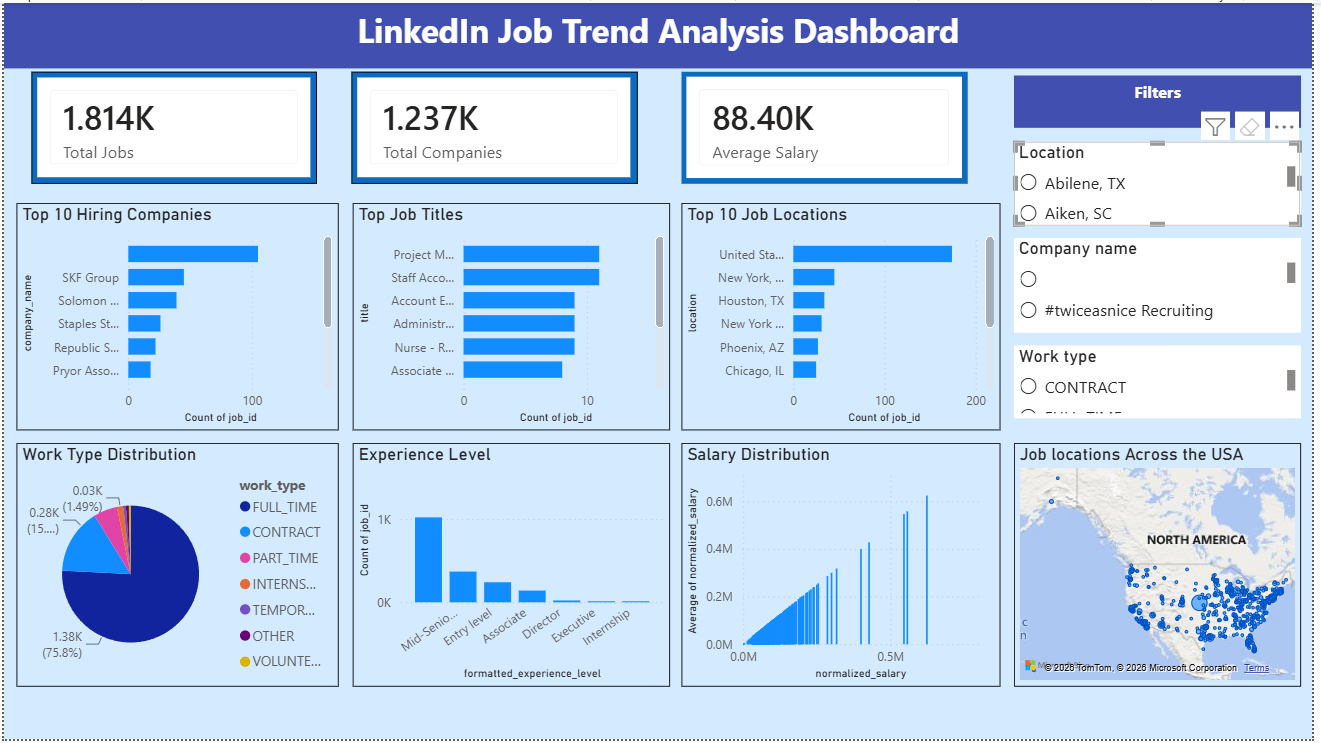

The dashboard page shown, as its layout file describes it:
{"tool":"powerbi","page":{"name":"Page 1","canvas":[1280,720],"ordinal":0},"visuals":[{"type":"cardVisual","fields":{"Data":["CountNonNull(LinkedIn_Cleaned_Data.job_id)"]},"box":[27.1,67,279.4,109.8],"z":0},{"type":"cardVisual","fields":{"Data":["Count(LinkedIn_Cleaned_Data.company_name)"]},"box":[340.3,67.2,279.9,109.8],"z":1000},{"type":"cardVisual","fields":{"Data":["Avg(LinkedIn_Cleaned_Data.normalized_salary)"]},"box":[662.8,67.2,279.9,109.8],"z":2000},{"type":"clusteredBarChart","title":"Top 10 Hiring Companies","fields":{"Category":["LinkedIn_Cleaned_Data.company_name"],"Y":["CountNonNull(LinkedIn_Cleaned_Data.job_id)"]},"box":[12.8,195.3,315,222.4],"z":3000},{"type":"clusteredBarChart","title":"Top 10 Job Locations","fields":{"Category":["LinkedIn_Cleaned_Data.location"],"Y":["CountNonNull(LinkedIn_Cleaned_Data.job_id)"]},"box":[662.8,195.3,312.2,222.4],"z":4000},{"type":"clusteredBarChart","title":"Top Job Titles","fields":{"Category":["LinkedIn_Cleaned_Data.title"],"Y":["CountNonNull(LinkedIn_Cleaned_Data.job_id)"]},"box":[340.7,195.3,310.7,222.4],"z":5000},{"type":"pieChart","title":"Work Type Distribution","fields":{"Category":["LinkedIn_Cleaned_Data.work_type"],"Y":["CountNonNull(LinkedIn_Cleaned_Data.job_id)"]},"box":[12.8,430.5,315,238],"z":6000},{"type":"clusteredColumnChart","title":"Experience Level","fields":{"Category":["LinkedIn_Cleaned_Data.formatted_experience_level"],"Y":["CountNonNull(LinkedIn_Cleaned_Data.job_id)"]},"box":[340.7,430.5,310.7,238],"z":7000},{"type":"clusteredColumnChart","title":"Salary Distribution","fields":{"Category":["LinkedIn_Cleaned_Data.normalized_salary"],"Y":["Avg(LinkedIn_Cleaned_Data.normalized_salary)"]},"box":[662.8,430.5,312.2,238],"z":8000},{"type":"textbox","box":[987.8,71.3,280.8,51.3],"z":9000},{"type":"listSlicer","title":"Location","fields":{"Values":["LinkedIn_Cleaned_Data.location"]},"box":[987.8,135.4,280.8,82.7],"z":10000},{"type":"listSlicer","fields":{"Values":["LinkedIn_Cleaned_Data.company_name"]},"box":[987.8,229.5,280.8,92.7],"z":11000},{"type":"listSlicer","fields":{"Values":["LinkedIn_Cleaned_Data.work_type"]},"box":[987.8,335,280.8,71.3],"z":12000},{"type":"textbox","box":[0,0,1280,64.1],"z":13000},{"type":"map","title":"Job locations Across the USA","fields":{"Category":["LinkedIn_Cleaned_Data.location"],"Size":["CountNonNull(LinkedIn_Cleaned_Data.job_id)"]},"box":[988,430,281,238],"z":14000}]}

Visuals, with their boxes in screenshot pixels (x1, y1, x2, y2), scaled from the page's 1280x720 canvas onto the 1321x743 screenshot:
cardVisual - CountNonNull(LinkedIn_Cleaned_Data.job_id): 28,69,316,182
cardVisual - Count(LinkedIn_Cleaned_Data.company_name): 351,69,640,183
cardVisual - Avg(LinkedIn_Cleaned_Data.normalized_salary): 684,69,973,183
"Top 10 Hiring Companies" clusteredBarChart: 13,202,338,431
"Top 10 Job Locations" clusteredBarChart: 684,202,1006,431
"Top Job Titles" clusteredBarChart: 352,202,672,431
"Work Type Distribution" pieChart: 13,444,338,690
"Experience Level" clusteredColumnChart: 352,444,672,690
"Salary Distribution" clusteredColumnChart: 684,444,1006,690
textbox: 1019,74,1309,127
"Location" listSlicer: 1019,140,1309,225
listSlicer - LinkedIn_Cleaned_Data.company_name: 1019,237,1309,332
listSlicer - LinkedIn_Cleaned_Data.work_type: 1019,346,1309,419
textbox: 0,0,1320,66
"Job locations Across the USA" map: 1020,444,1310,689
